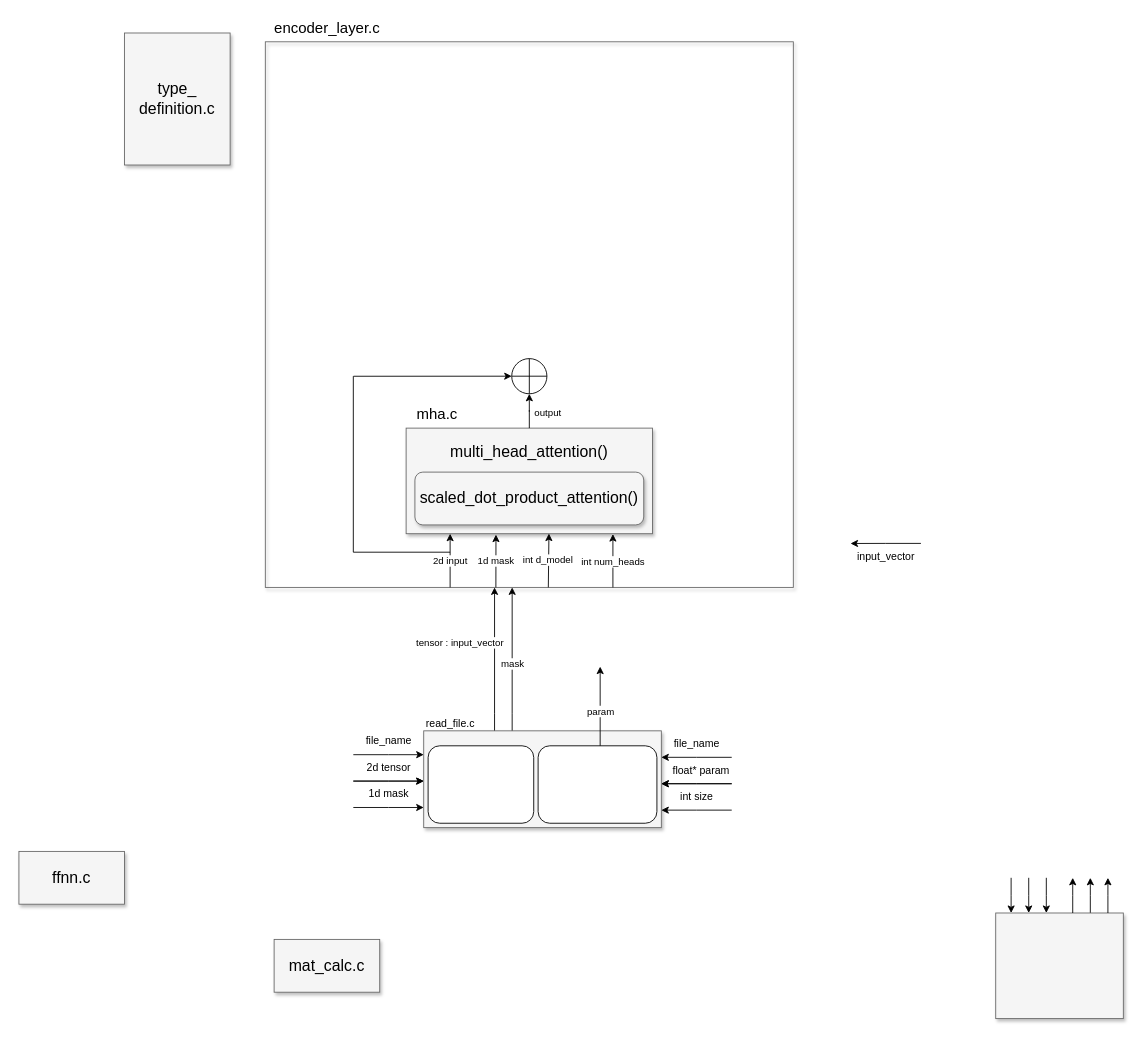
Image size: 1144x1040. Some labels were removed from this diagram. Here are the shapes that lost their labels. From the top down, the centre of each, then its label:
At [480,784]: "read_input_vector()".
At [597,784]: "read_params_from_bin()".
At [1060,967]: "DUT".
